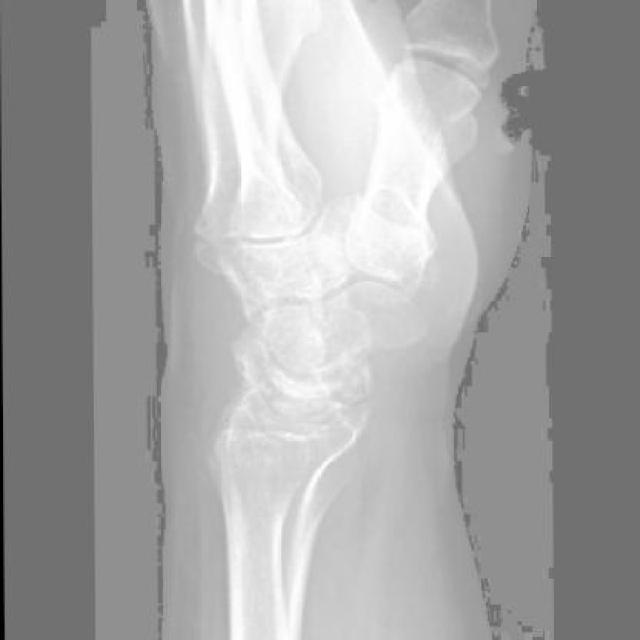Fracture: (226, 348, 378, 442)
